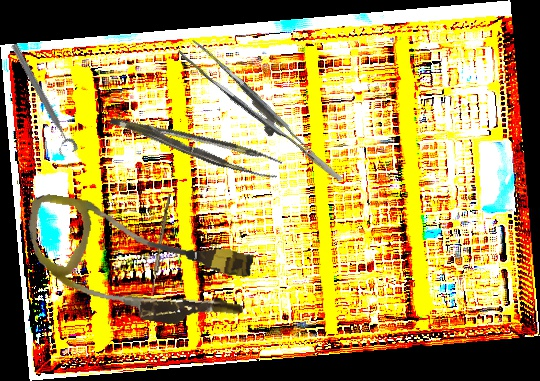Cannula: (16, 191, 259, 336)
Fixation Ring: (1, 41, 80, 159)
Surgical Spoon: (149, 193, 171, 302)
Tissue Forceps: (178, 24, 343, 206), (109, 95, 283, 190)
